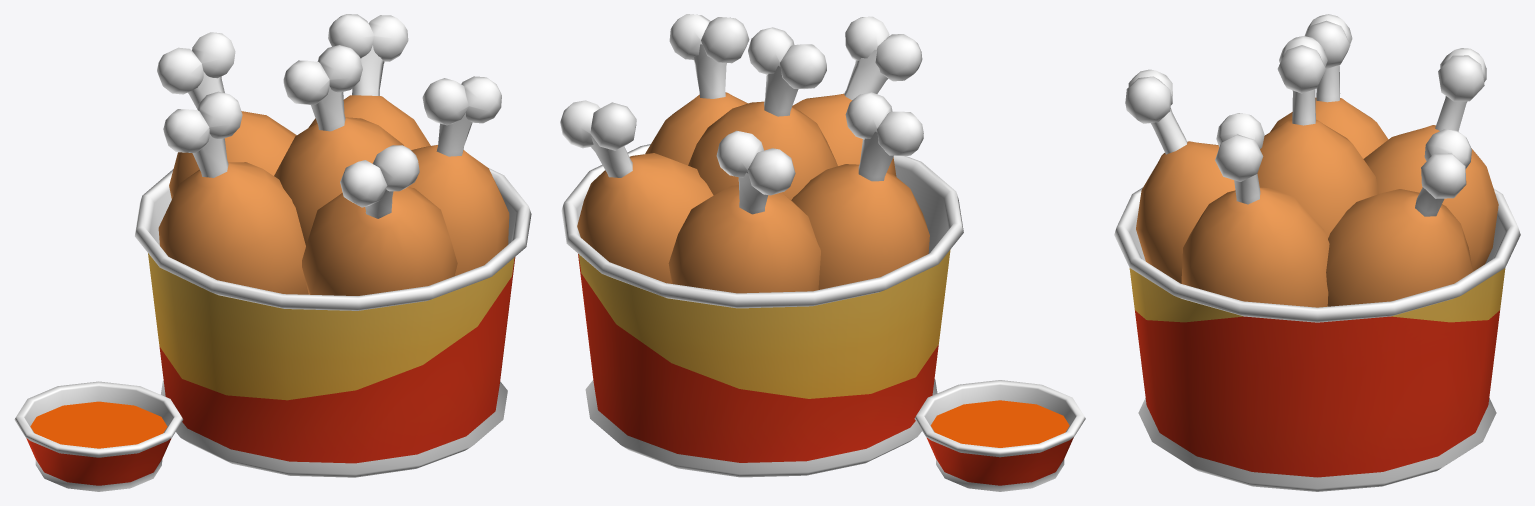
The model's file is FriedChicken.fbx.
3 views of the same model, side by side, from view 1: azimuth 30°, elevation 25°; view 2: azimuth 150°, elevation 25°; view 3: azimuth 270°, elevation 25° (orthographic).
Parts seen in each view (by area): view 1: Map02_Garan_LV5; view 2: Map02_Garan_LV5; view 3: Map02_Garan_LV5.
Boxes of the visible parts, x1,y1,x2,y2 form: Map02_Garan_LV5: (14, 14, 531, 491); Map02_Garan_LV5: (560, 14, 1085, 491); Map02_Garan_LV5: (1114, 14, 1520, 491).
Size of the model in its own units: 204 by 148 by 147.
